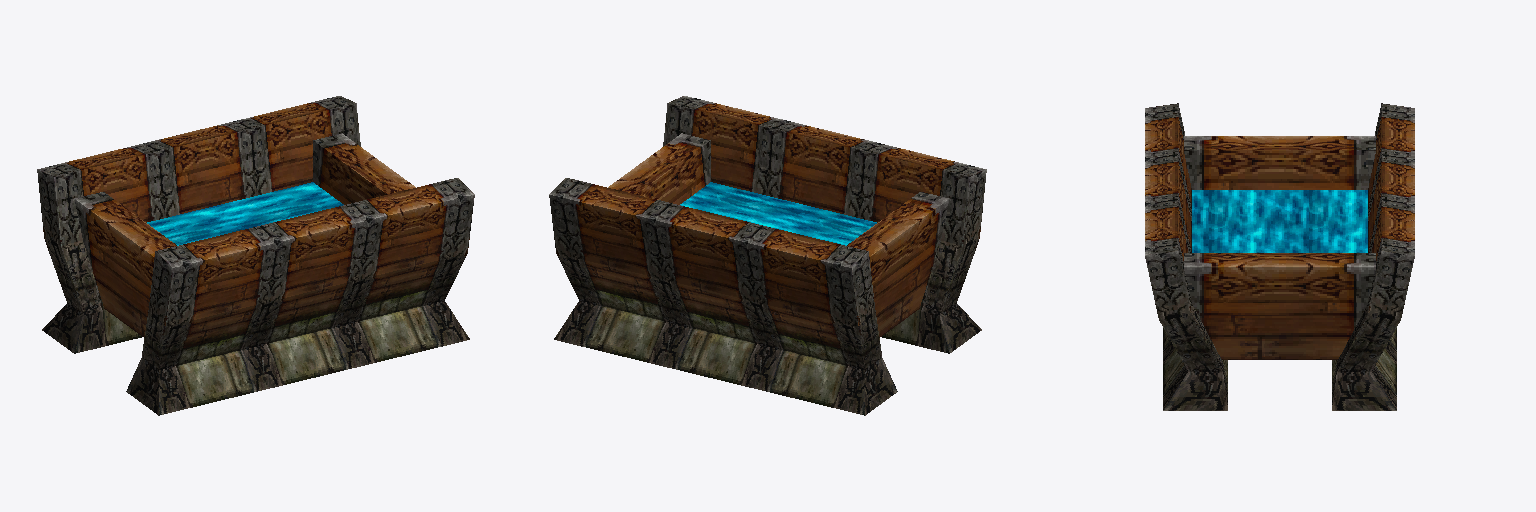
3 renders of one model, left to right at view 1: azimuth 30°, elevation 25°; view 2: azimuth 150°, elevation 25°; view 3: azimuth 270°, elevation 25°, orthographic.
Visible parts, largest first — view 1: waterbasin.m2; view 2: waterbasin.m2; view 3: waterbasin.m2.
Boxes of the visible parts, box(x1,y1,x2,y2) form: waterbasin.m2: box(37, 96, 474, 415); waterbasin.m2: box(549, 96, 986, 415); waterbasin.m2: box(1145, 103, 1414, 410).
Size of the model in its own units: 1.93 by 0.9316 by 1.45.
Materials: 2 (2 with a texture image).